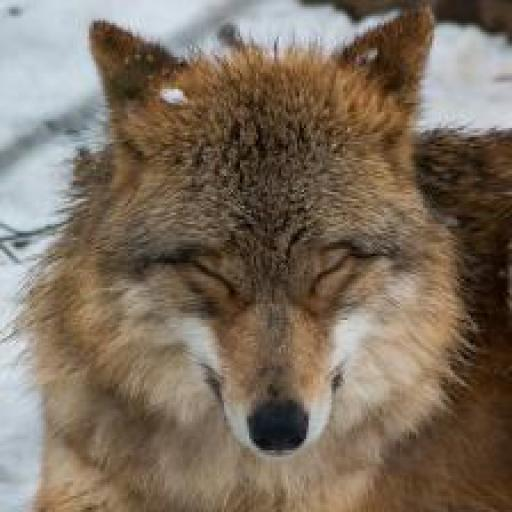wolf: (9, 4, 512, 511)
